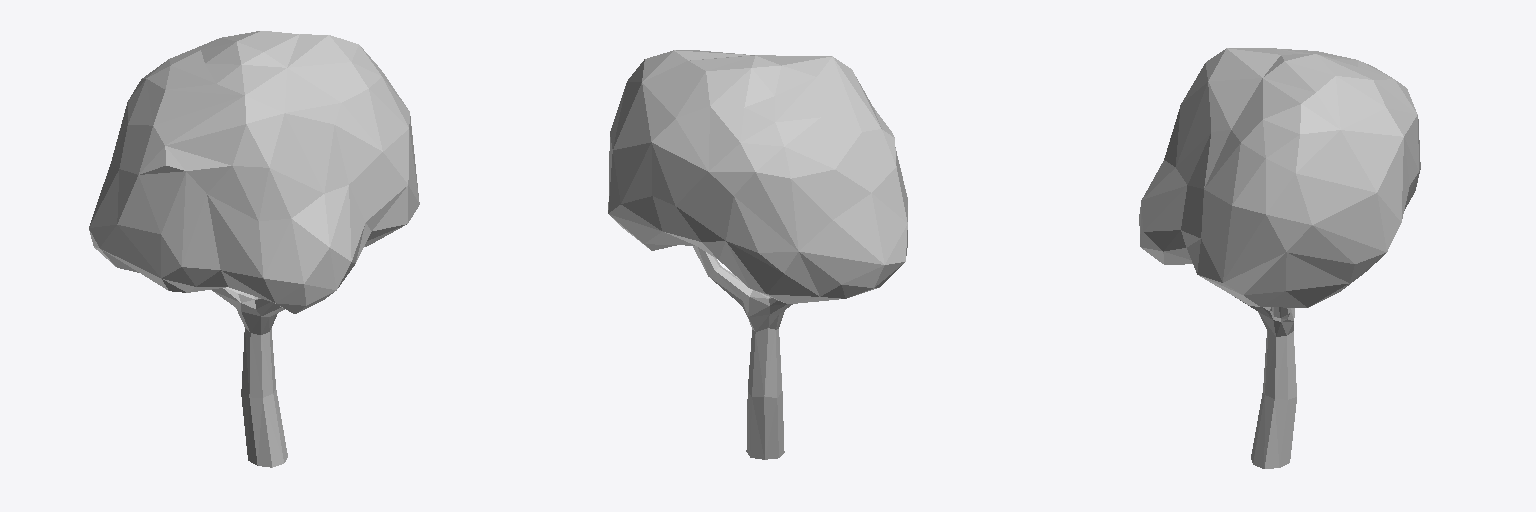
File: Tree_03.obj
3 views of the same model, side by side, from view 1: azimuth 30°, elevation 25°; view 2: azimuth 150°, elevation 25°; view 3: azimuth 270°, elevation 25° (orthographic).
Visible parts, largest first — view 1: Tree_03; view 2: Tree_03; view 3: Tree_03.
Boxes of the visible parts, <box> form: Tree_03: <box>89,31,419,467</box>; Tree_03: <box>608,50,907,459</box>; Tree_03: <box>1139,48,1420,468</box>.
Bounding box in the file's own units: 3.78 × 4.95 × 3.13.